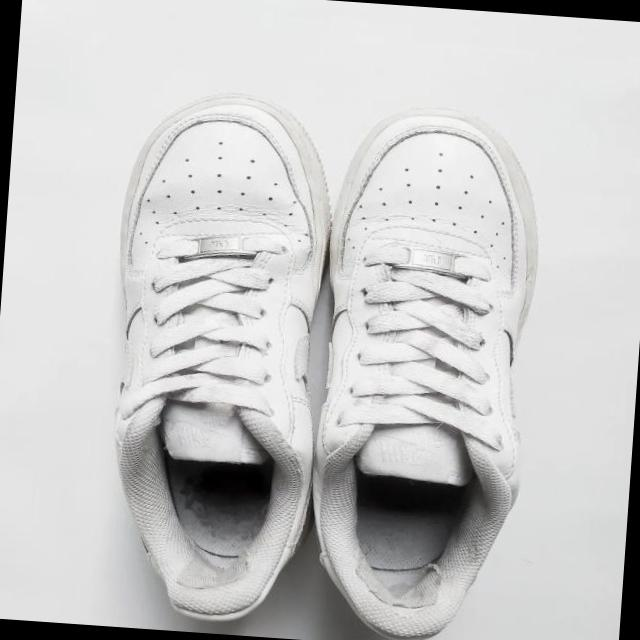nike_fake_airforce: (81, 79, 340, 634), (293, 95, 552, 640)
